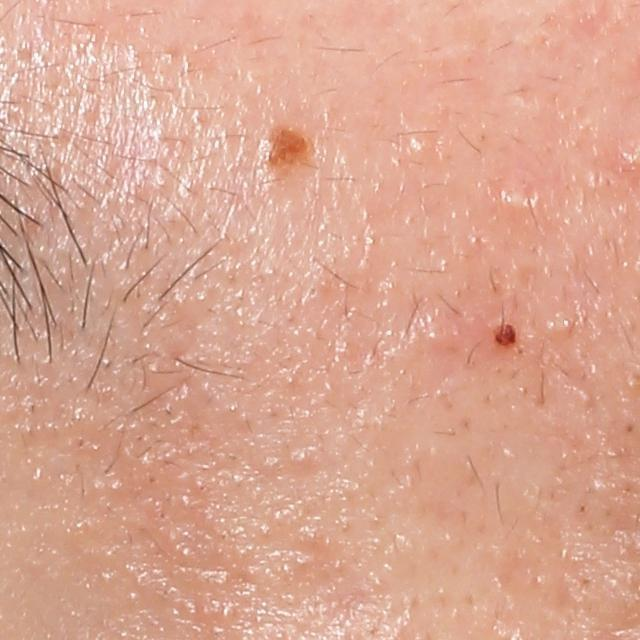comedo: (418, 312, 467, 362), (284, 446, 309, 471)
nevus: (245, 121, 313, 176)
pustule: (496, 177, 538, 222)
